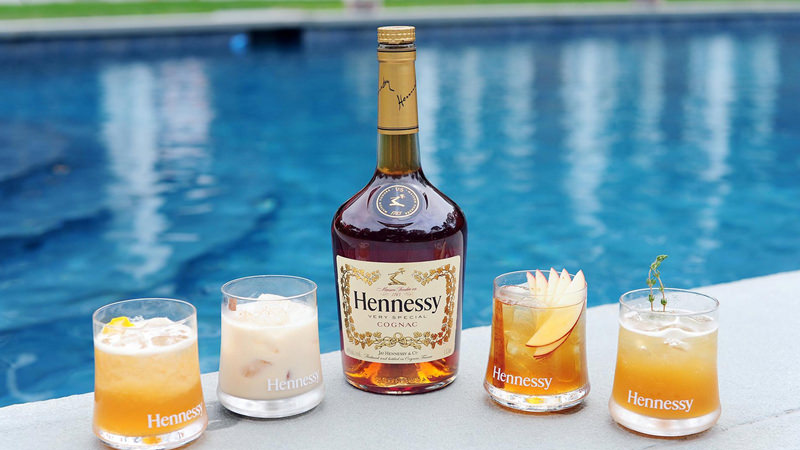Hennessy: (328, 22, 471, 400)
